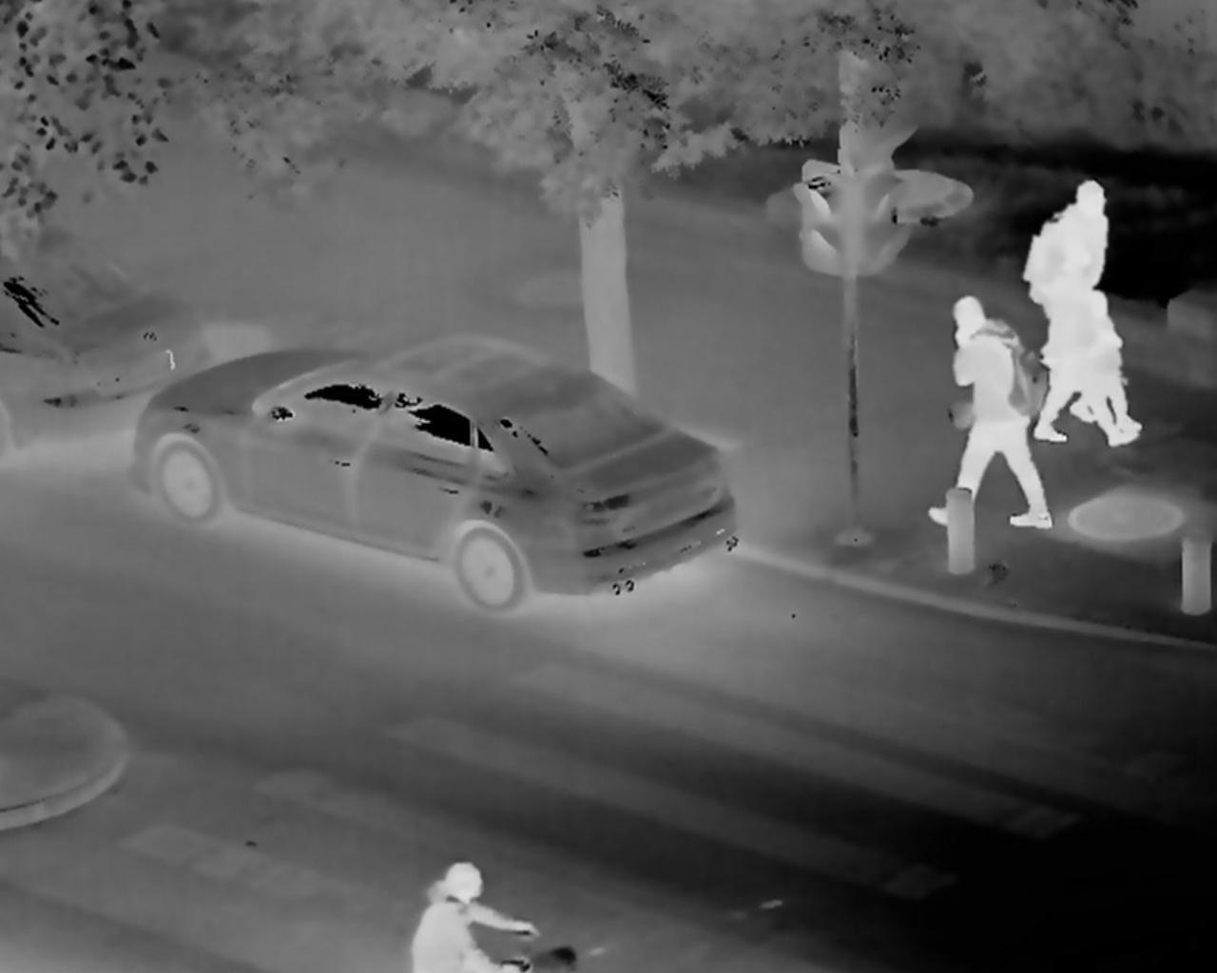person: (1026, 176, 1142, 445), (926, 294, 1053, 532), (405, 862, 541, 973)
